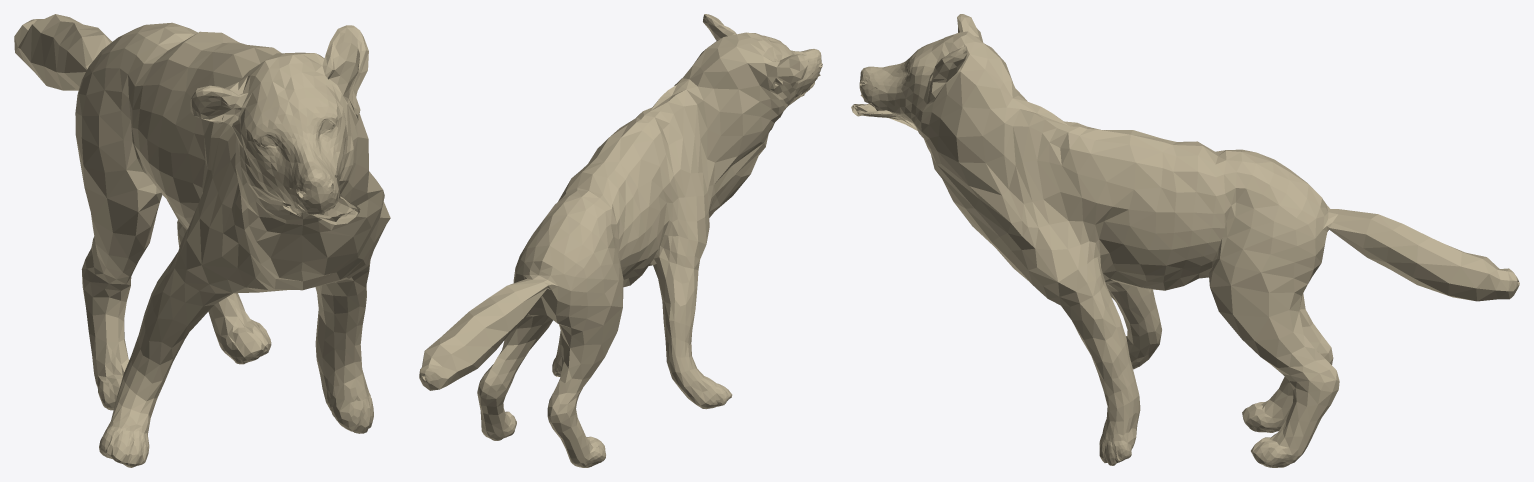
3 renders of one model, left to right at view 1: azimuth 30°, elevation 25°; view 2: azimuth 150°, elevation 25°; view 3: azimuth 270°, elevation 25°, orthographic. The views are drawn at different scales.
Parts seen in each view (by area): view 1: world; view 2: world; view 3: world.
Boxes of the visible parts, x1,y1,x2,y2 form: world: (14,14,390,467); world: (419,14,822,467); world: (851,14,1519,467).
Bounding box in the file's own units: 0.4767 × 0.8523 × 1.32.
